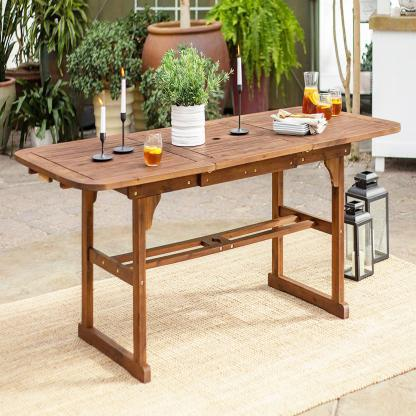table: (13, 89, 402, 389)
